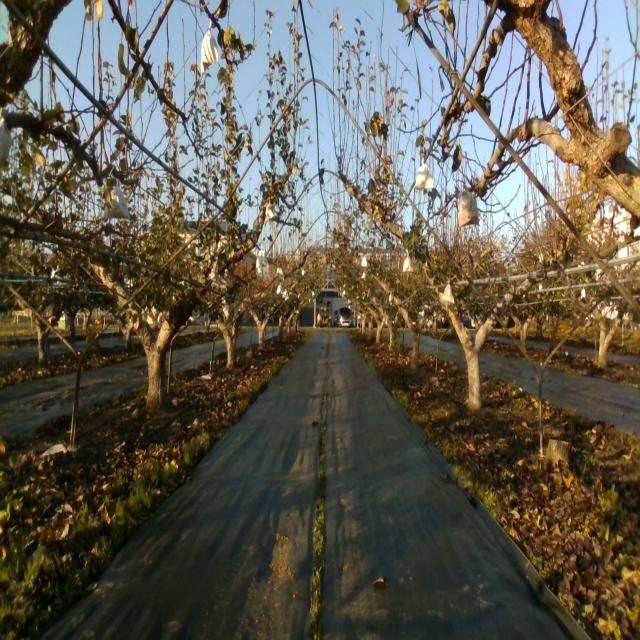pearbags: (103, 180, 133, 220), (200, 20, 218, 74), (459, 186, 479, 228), (414, 157, 434, 189), (254, 243, 268, 267), (206, 262, 220, 284), (443, 278, 455, 302), (402, 255, 414, 272)
